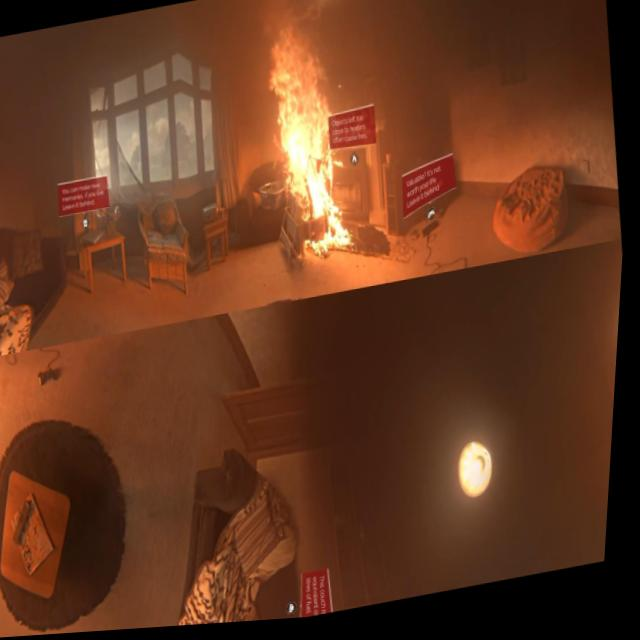fire: (252, 13, 374, 273)
